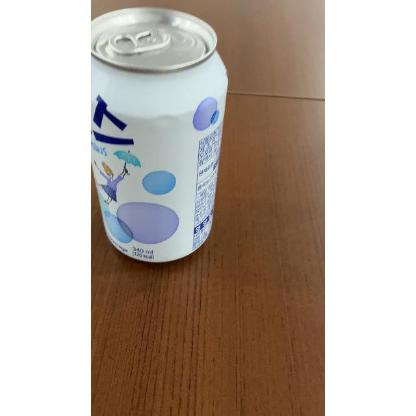Can: (94, 6, 230, 266)
